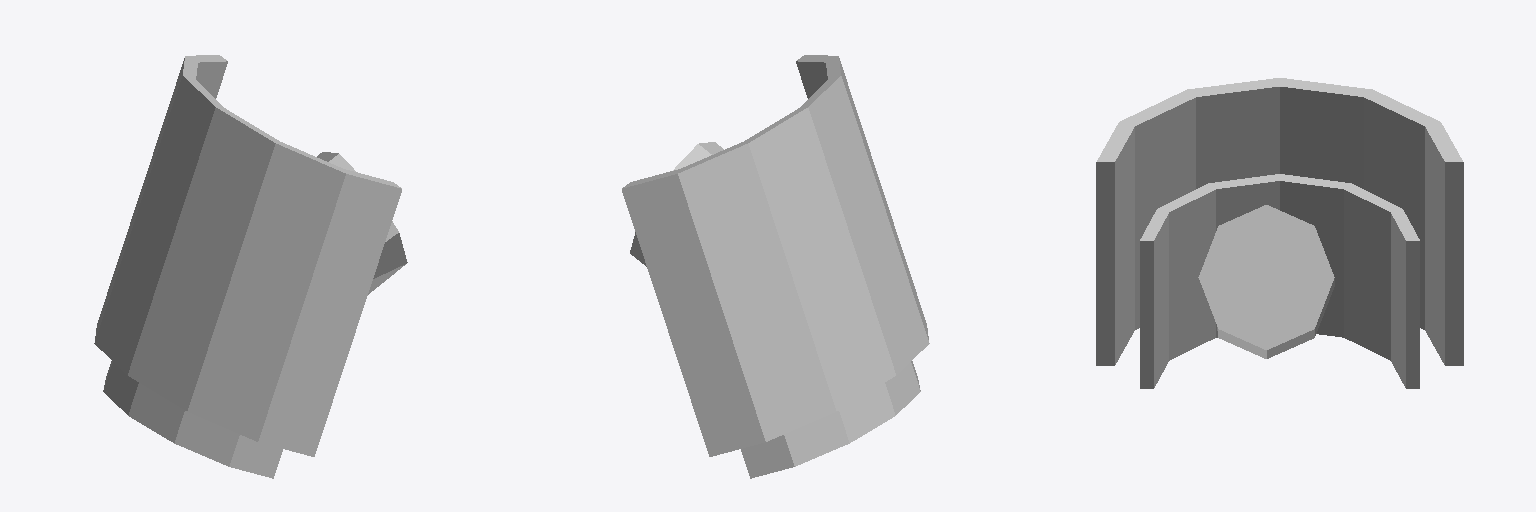
The model's file is Shoulder_R.obj.
The picture shows the model from 3 angles: view 1: azimuth 30°, elevation 25°; view 2: azimuth 150°, elevation 25°; view 3: azimuth 270°, elevation 25°; orthographic projection.
Visible parts, largest first — view 1: Shoulder_R pPipe28, Shoulder_R pPipe38, pCylinder6 Shoulder_R; view 2: Shoulder_R pPipe28, Shoulder_R pPipe38, pCylinder6 Shoulder_R; view 3: Shoulder_R pPipe28, Shoulder_R pPipe38, pCylinder6 Shoulder_R.
Boxes of the visible parts, x1=… form: Shoulder_R pPipe28: x1=94, y1=55, x2=401, y2=456; Shoulder_R pPipe38: x1=103, y1=361, x2=282, y2=478; pCylinder6 Shoulder_R: x1=317, y1=152, x2=407, y2=294; Shoulder_R pPipe28: x1=622, y1=55, x2=929, y2=456; Shoulder_R pPipe38: x1=741, y1=361, x2=920, y2=478; pCylinder6 Shoulder_R: x1=630, y1=142, x2=723, y2=266; Shoulder_R pPipe28: x1=1096, y1=78, x2=1463, y2=365; Shoulder_R pPipe38: x1=1140, y1=174, x2=1419, y2=388; pCylinder6 Shoulder_R: x1=1198, y1=205, x2=1334, y2=358.
Bounding box in the file's own units: 1.69 × 1.99 × 2.08.